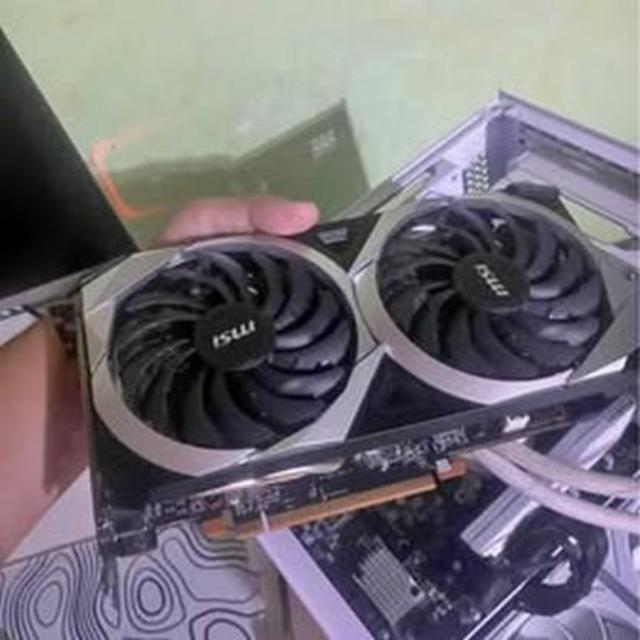GPU: (74, 185, 638, 518)
